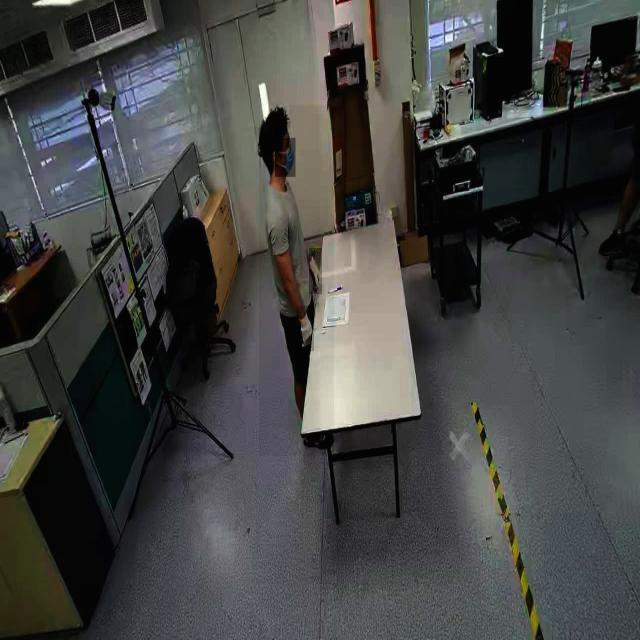face_mask: (275, 138, 295, 177)
hand_glove: (296, 306, 314, 352), (309, 248, 322, 294)
head_nohelmet: (260, 105, 290, 137)
person: (258, 105, 334, 457)
